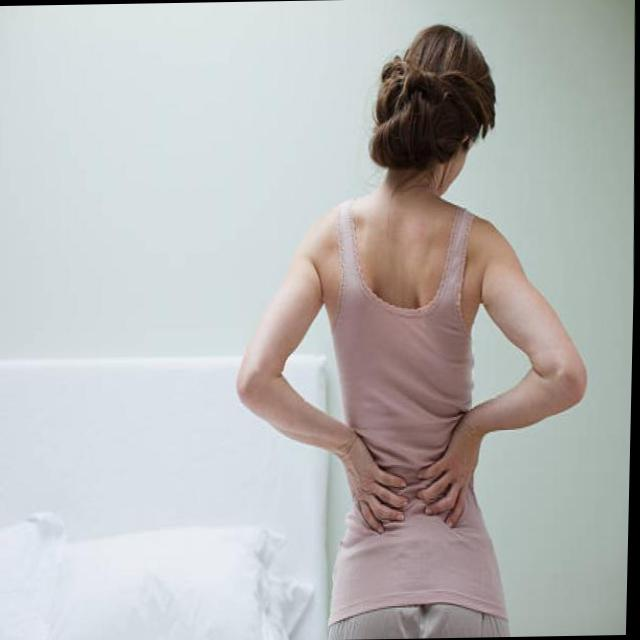no helmet: (335, 26, 508, 232)
